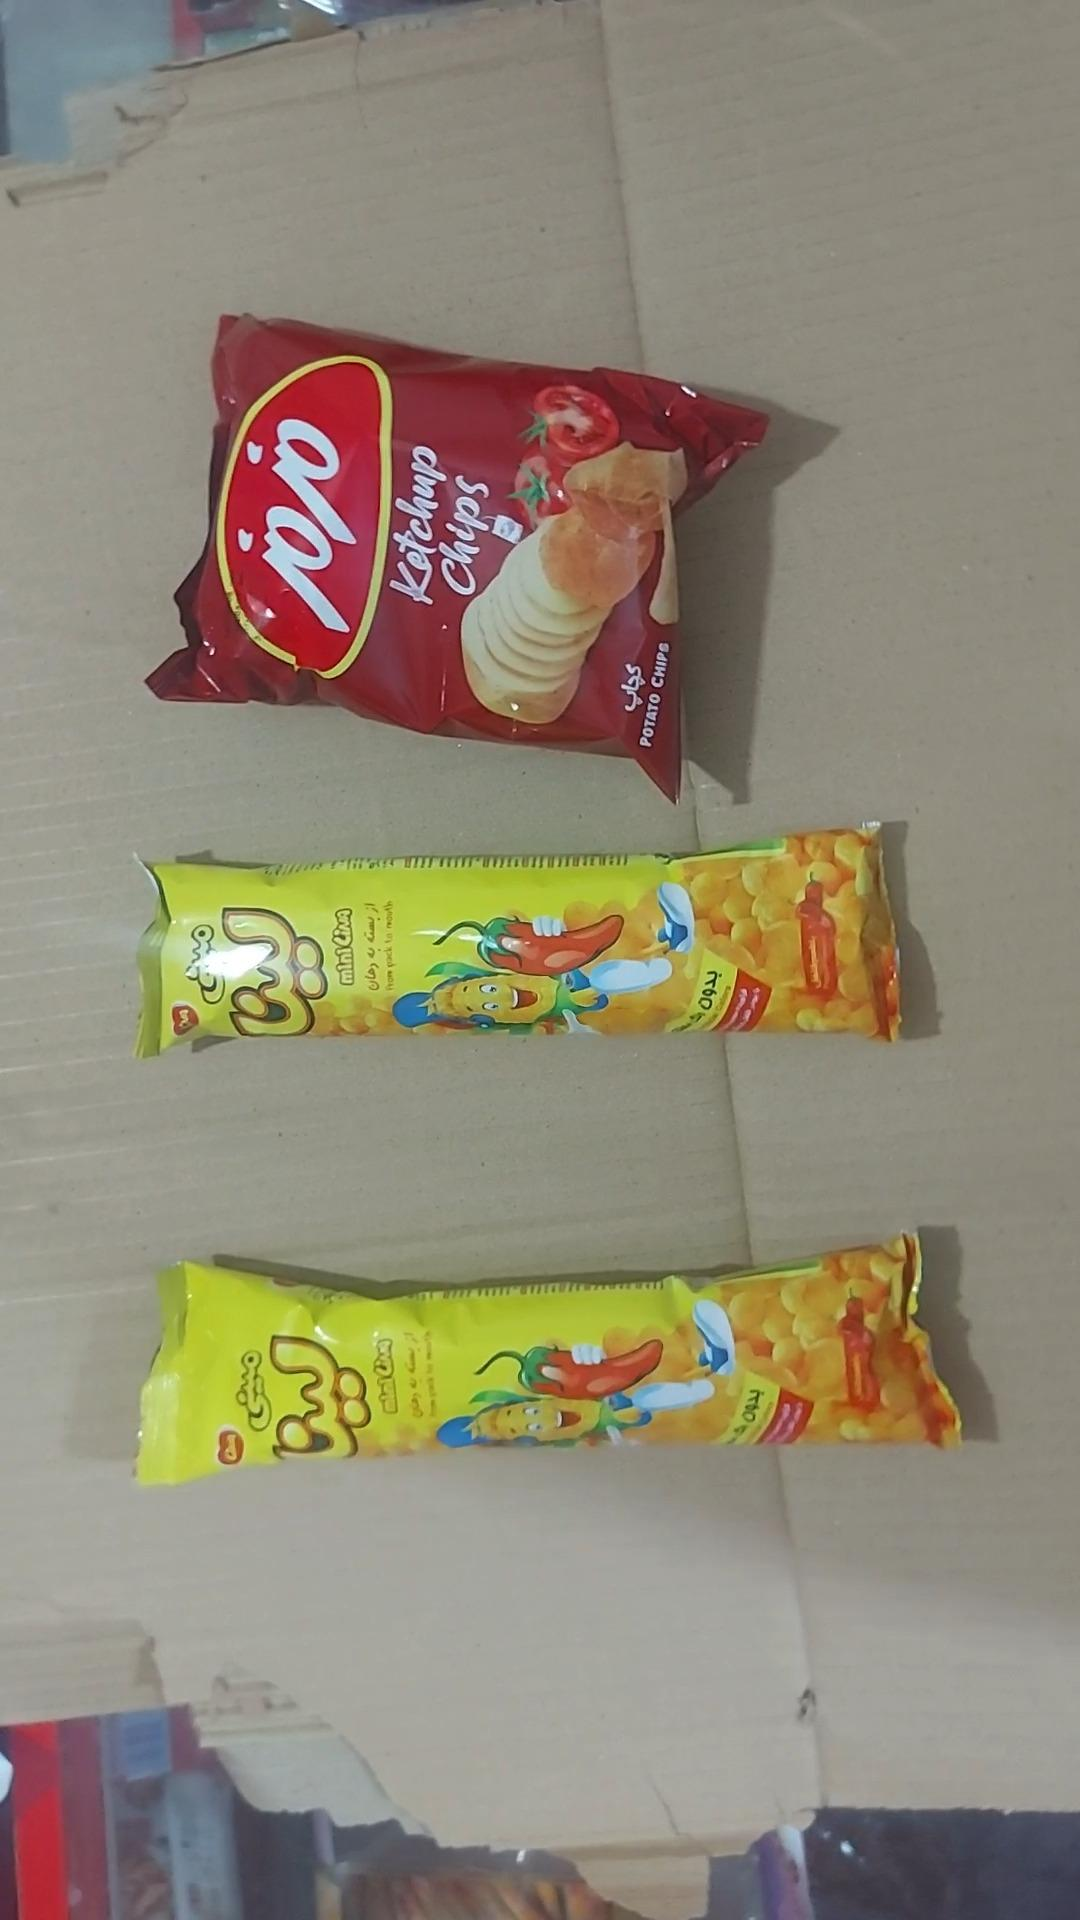Maz Maz ketchup chips: (146, 316, 766, 799)
Mini Lina: (136, 1236, 960, 1484), (136, 829, 901, 1058)
